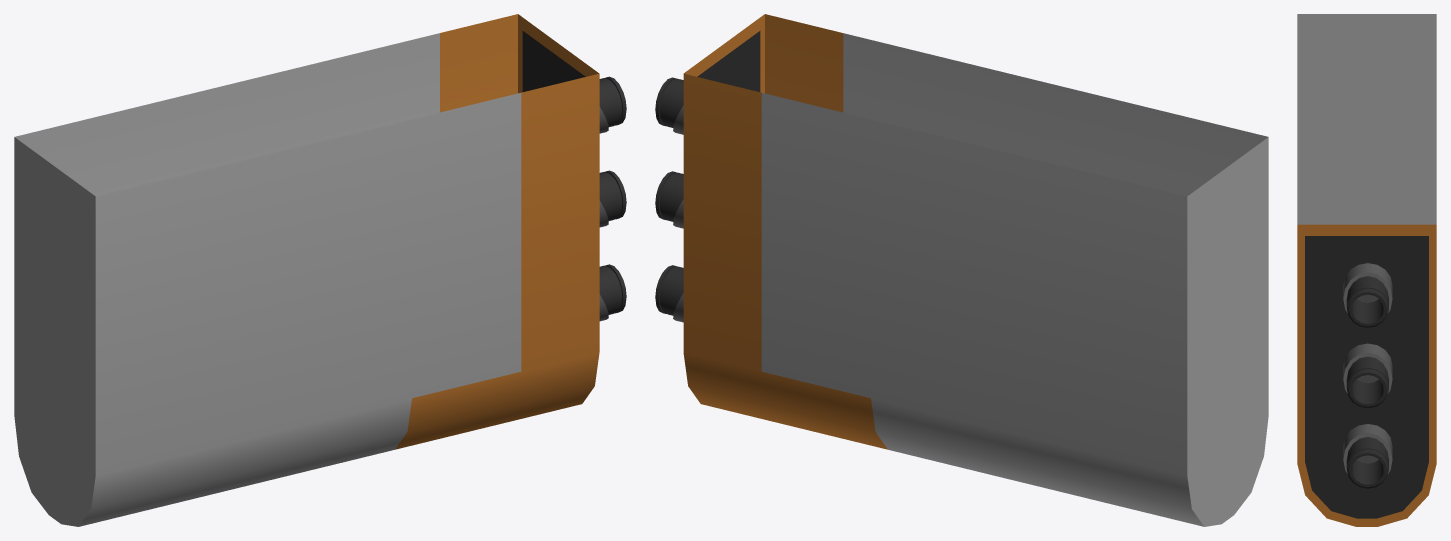
The model's file is Barrel_AR_3.gltf.
3 renders of one model, left to right at view 1: azimuth 30°, elevation 25°; view 2: azimuth 150°, elevation 25°; view 3: azimuth 270°, elevation 25°, orthographic. The views are drawn at different scales.
Visible parts, largest first — view 1: Barrel_AR_3; view 2: Barrel_AR_3; view 3: Barrel_AR_3.
Boxes of the visible parts, x1,y1,x2,y2 form: Barrel_AR_3: (14,14,626,526); Barrel_AR_3: (655,14,1268,526); Barrel_AR_3: (1297,14,1436,526).
Bounding box in the file's own units: 0.3952 × 0.2376 × 0.0993.
